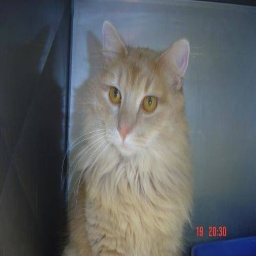cat: (68, 24, 193, 256)
